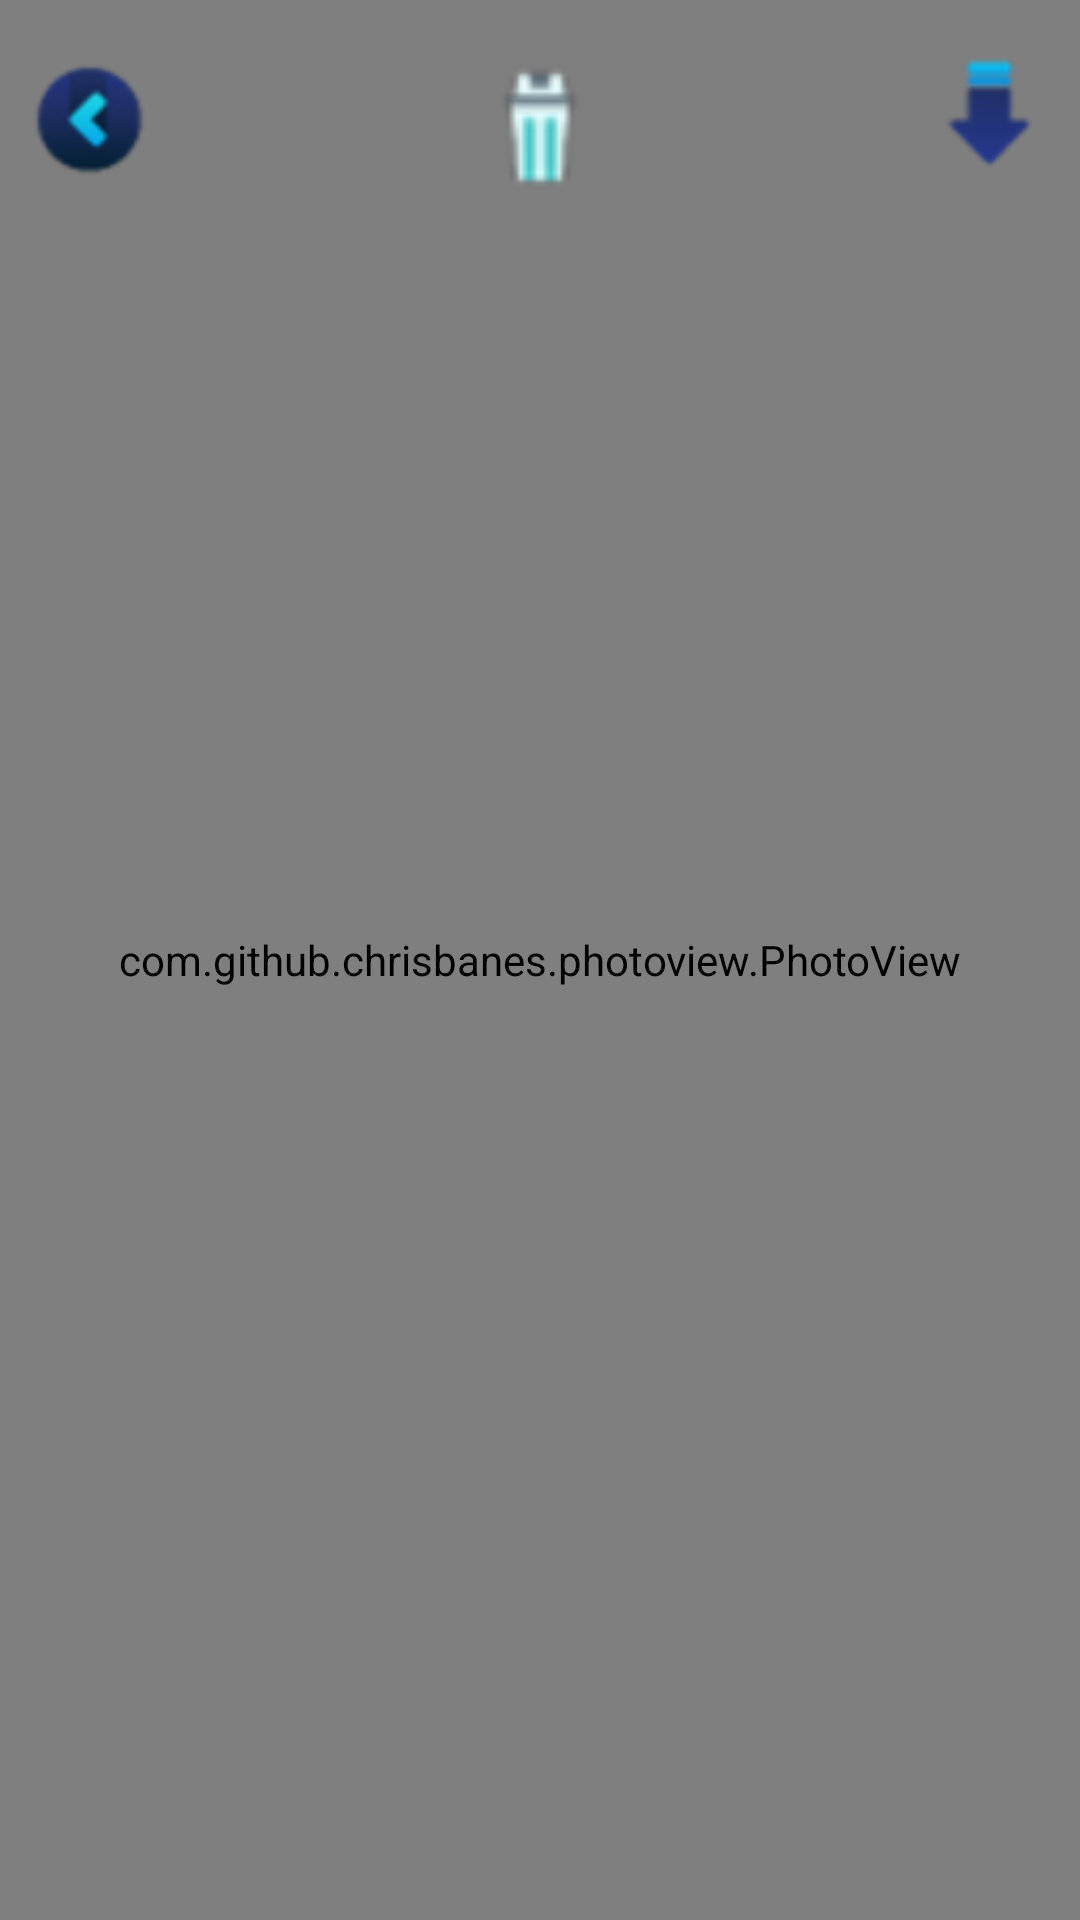

Point at icon controls on the screen. Image size 1080x1920, points as [x,y].
dustbin: [540,127]
